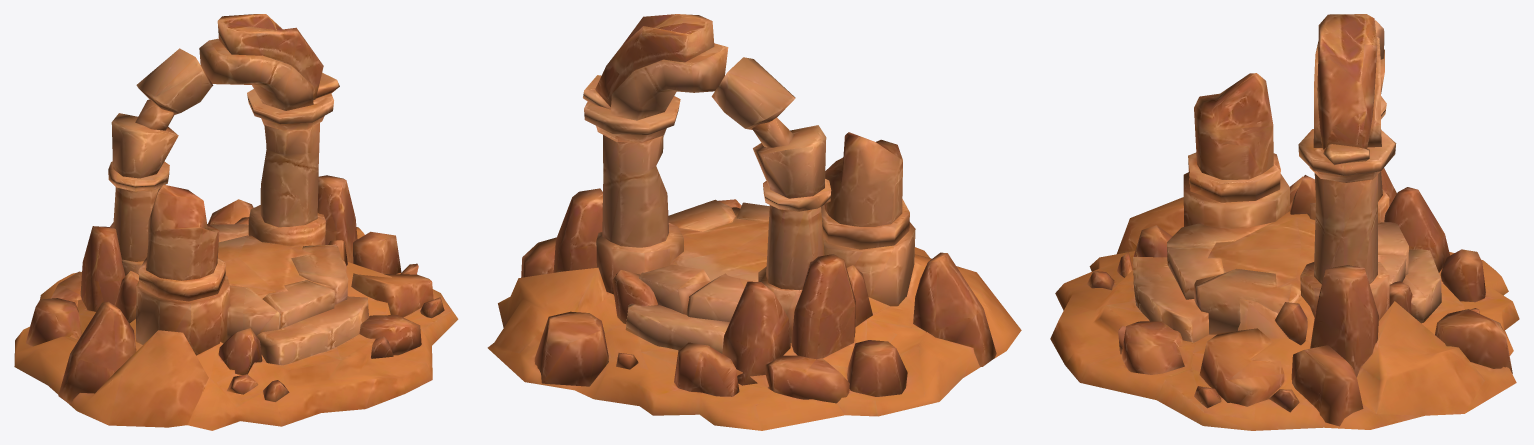
Rendered from desert_monument_1.glb.
3 views of the same model, side by side, from view 1: azimuth 30°, elevation 25°; view 2: azimuth 150°, elevation 25°; view 3: azimuth 270°, elevation 25° (orthographic). The views are drawn at different scales.
Bounding box in the file's own units: 1 × 0.709 × 0.9316.
1 material, 1 textured.
